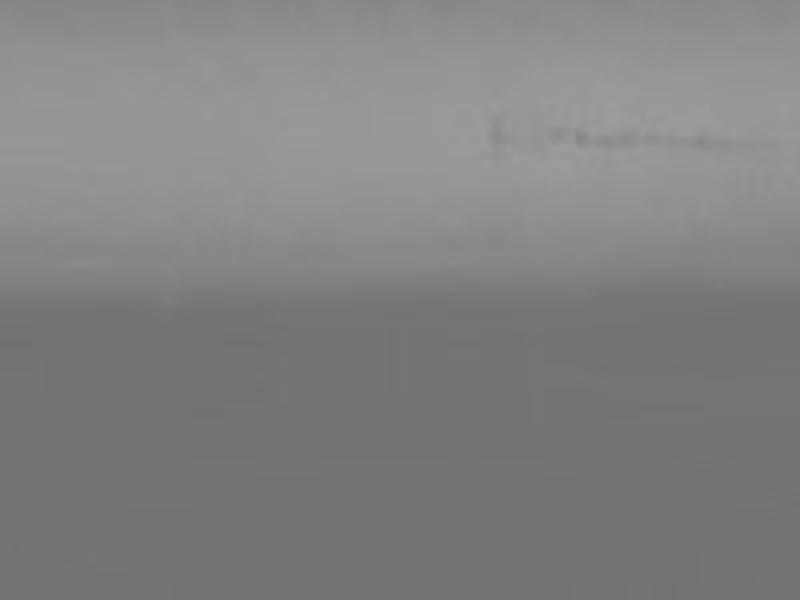defect: (692, 131, 716, 154), (544, 122, 567, 143), (642, 128, 663, 149), (595, 133, 615, 152), (617, 133, 635, 151), (571, 131, 588, 148)
